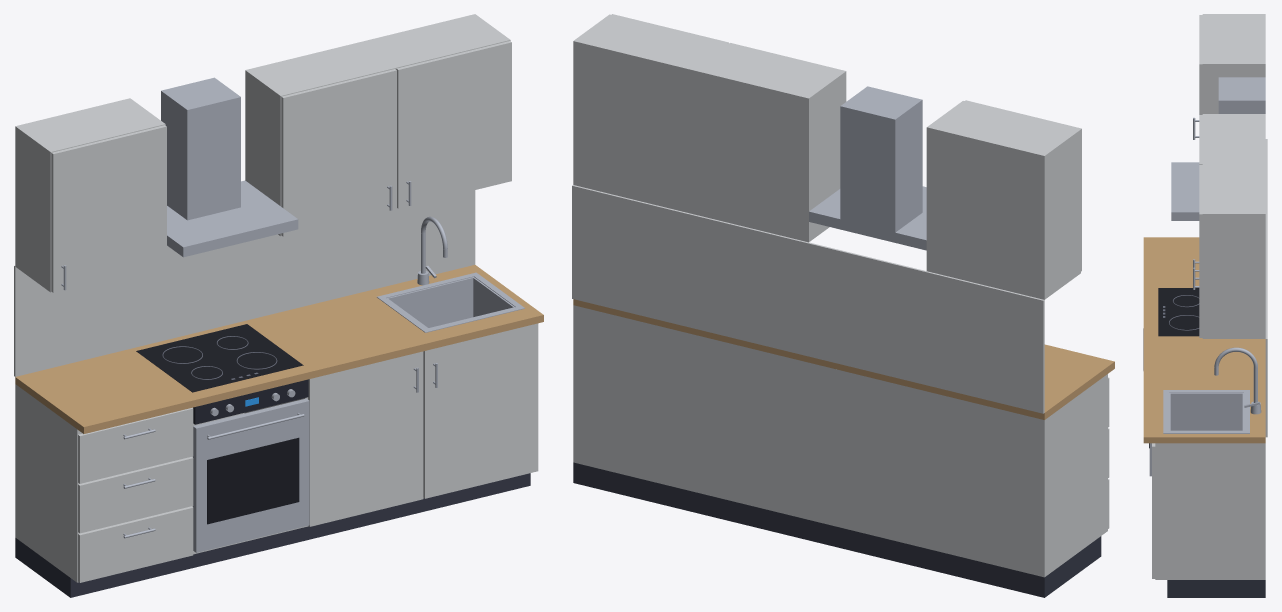
The model's file is sch-019.glb.
3 renders of one model, left to right at view 1: azimuth 30°, elevation 25°; view 2: azimuth 150°, elevation 25°; view 3: azimuth 270°, elevation 25°, orthographic. The views are drawn at different scales.
Parts seen in each view (by area): view 1: white, steel, oak, epoxy_resin, dark_steel, plastic_dark; view 2: white, steel, dark_steel, oak; view 3: white, oak, steel, epoxy_resin, dark_steel, hob_ring.
Part boxes in pixels (x1,y1,x2,y2): white: (14,14,538,582); steel: (61,77,524,552); oak: (15,265,543,433); epoxy_resin: (136,324,303,524); dark_steel: (15,473,530,597); plastic_dark: (193,379,308,424); white: (572,14,1109,577); steel: (809,86,926,250); dark_steel: (573,462,1101,597); oak: (573,299,1114,419); white: (1152,14,1267,579); oak: (1143,237,1265,443); steel: (1143,77,1265,476); epoxy_resin: (1149,288,1199,448); dark_steel: (1167,580,1265,597); hob_ring: (1163,295,1199,330).
Bounding box in the file's own units: 2.4 × 2.15 × 0.632.
